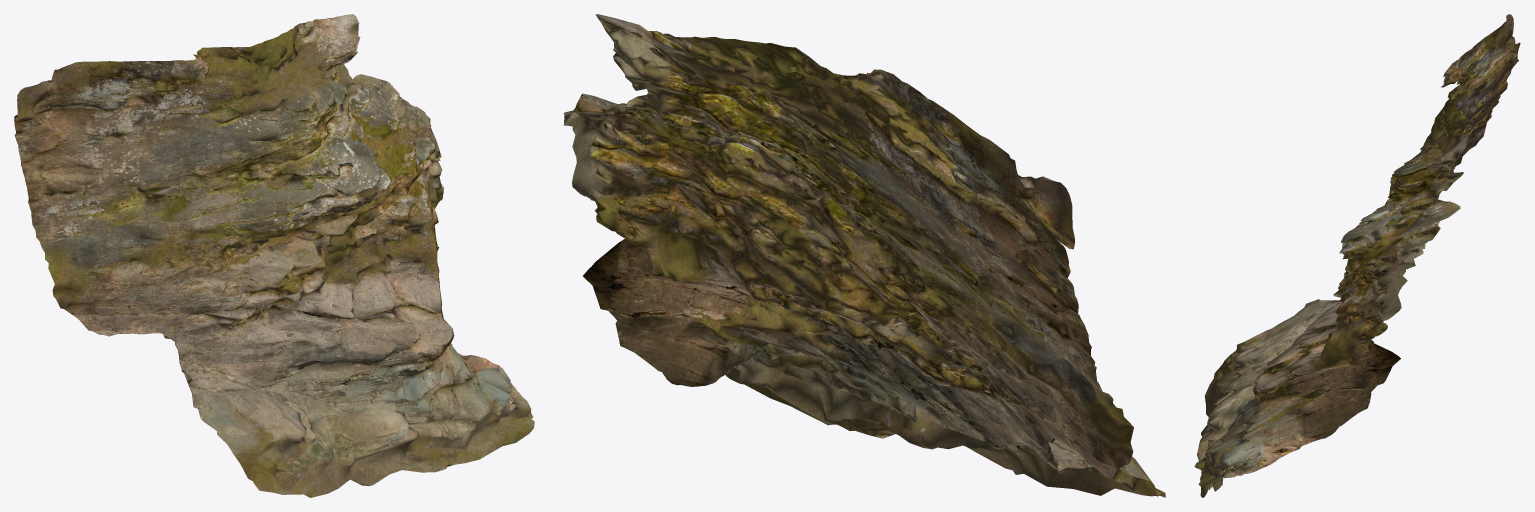
The model's file is rock_face_02.glb.
3 views of the same model, side by side, from view 1: azimuth 30°, elevation 25°; view 2: azimuth 150°, elevation 25°; view 3: azimuth 270°, elevation 25° (orthographic). The views are drawn at different scales.
Visible parts, largest first — view 1: rock_face_02; view 2: rock_face_02; view 3: rock_face_02.
Part boxes in pixels (left/top/right/bottom): rock_face_02: left=14, top=14, right=534, bottom=497; rock_face_02: left=563, top=14, right=1165, bottom=497; rock_face_02: left=1194, top=14, right=1520, bottom=497.
Bounding box in the file's own units: 2.71 × 2.47 × 2.13.
Materials: 1 (1 with a texture image).
